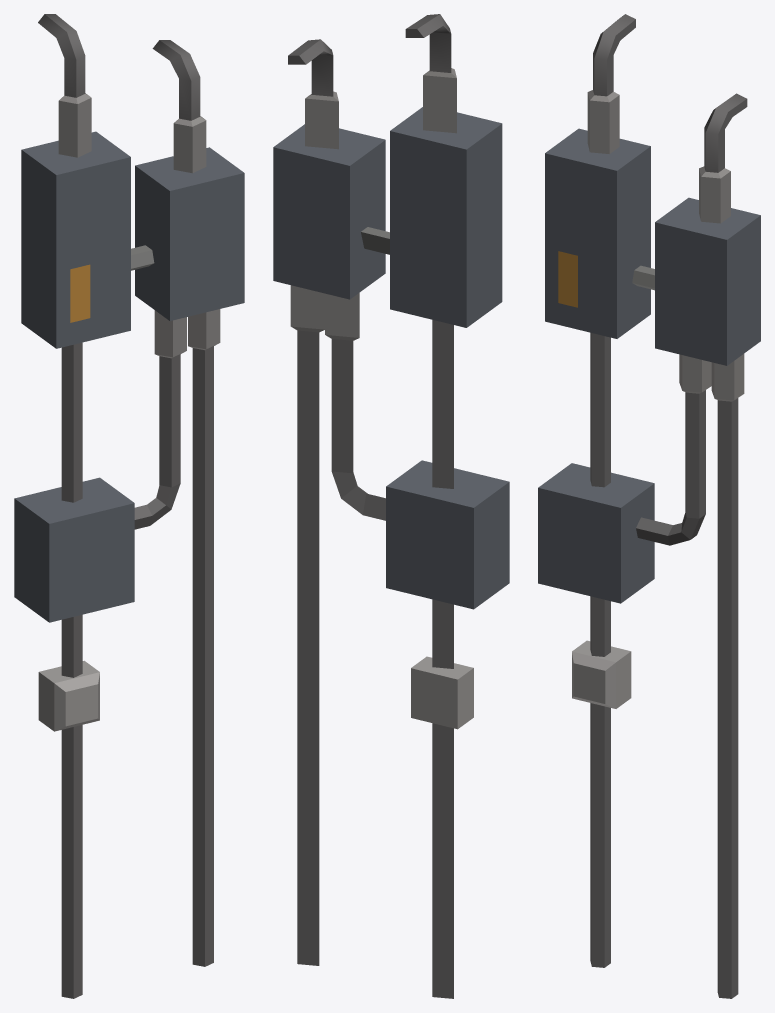
The model's file is SM_Prop_PowerBoxes_01.fbx.
3 renders of one model, left to right at view 1: azimuth 30°, elevation 25°; view 2: azimuth 150°, elevation 25°; view 3: azimuth 330°, elevation 25°, orthographic. The views are drawn at different scales.
Visible parts, largest first — view 1: SM_Prop_PowerBoxes_01; view 2: SM_Prop_PowerBoxes_01; view 3: SM_Prop_PowerBoxes_01.
Boxes of the visible parts, box(x1,y1,x2,y2) form: SM_Prop_PowerBoxes_01: box(14, 14, 244, 998); SM_Prop_PowerBoxes_01: box(273, 14, 509, 998); SM_Prop_PowerBoxes_01: box(538, 14, 760, 998).
Size of the model in its own units: 46.84 by 220 by 19.7.
1 material, 1 textured.
